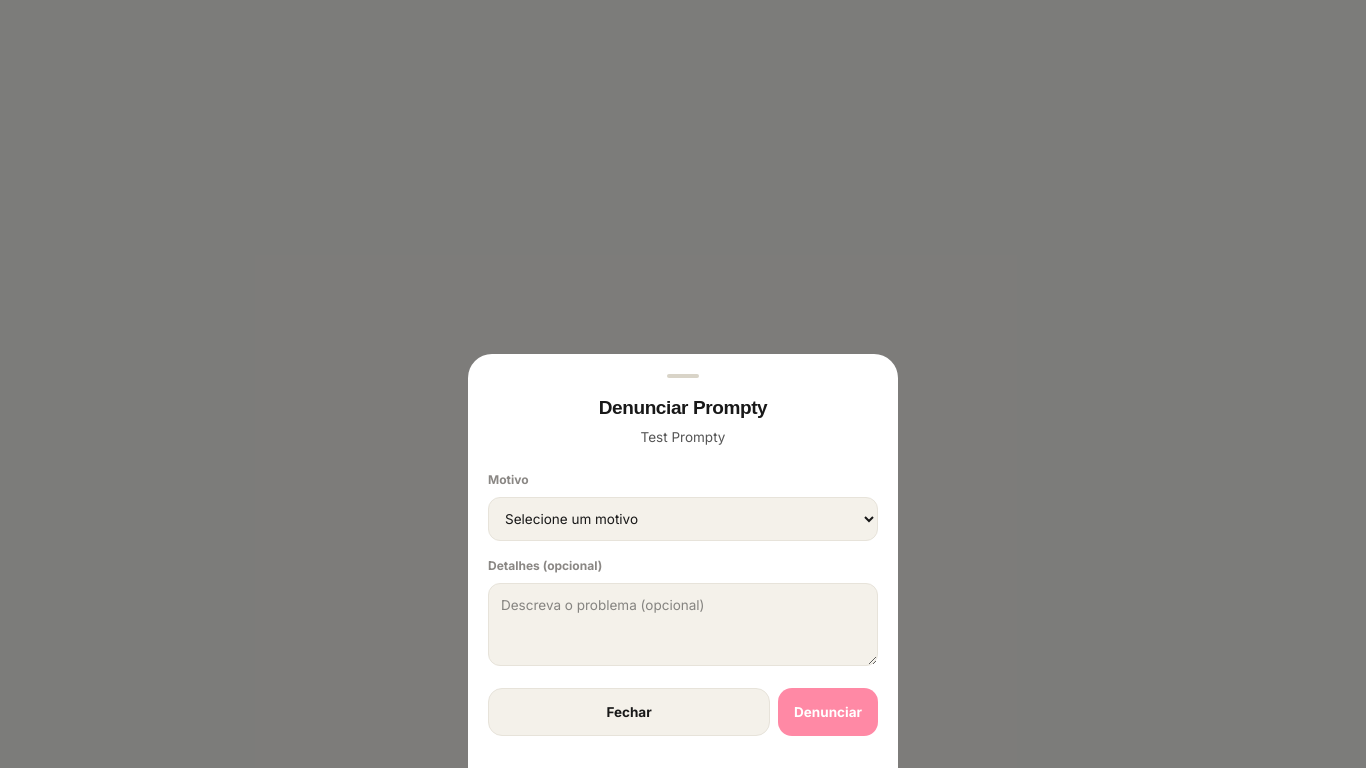
ReportSheet › submit error shows alert and keeps sheet open
Select "Spam" in the dropdown named "motivo da denúncia" at (683, 519), box [488,497,878,541]
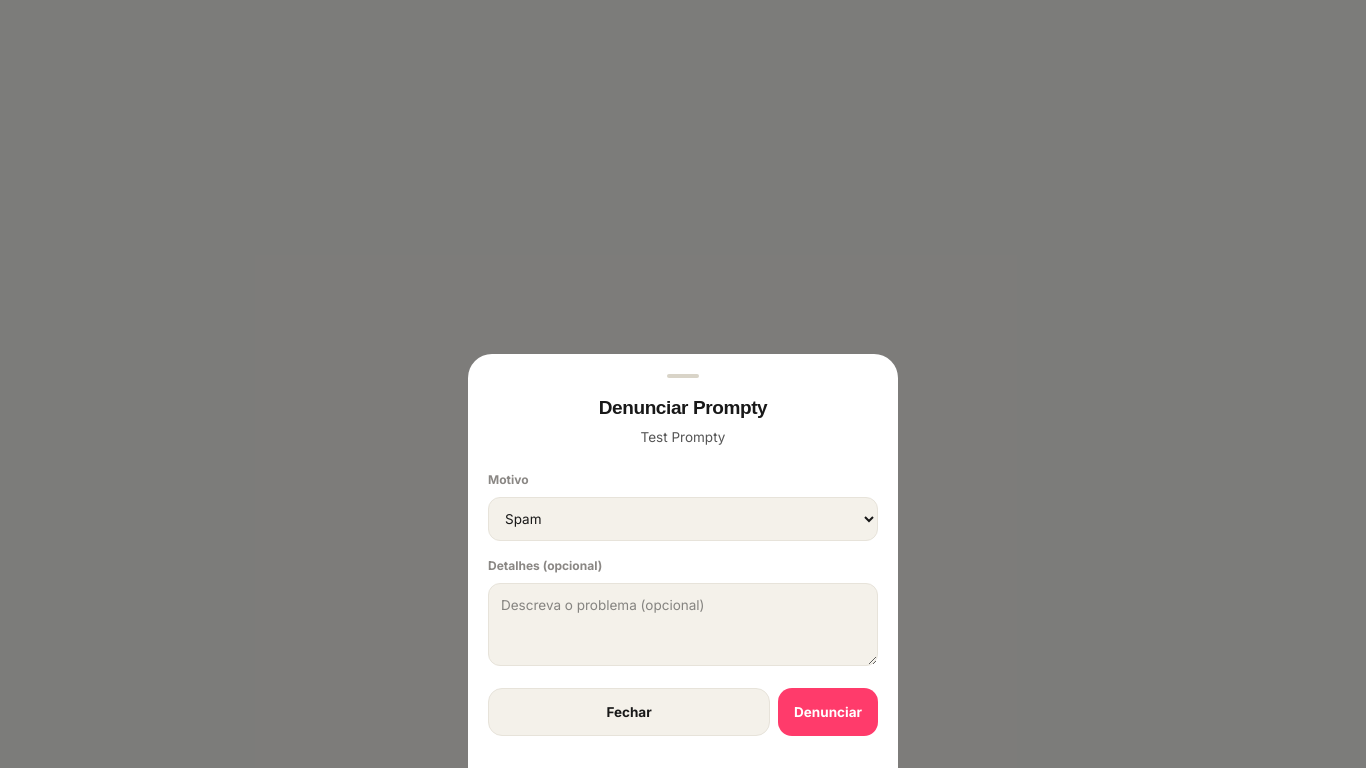
Click the button "Denunciar" at (828, 712), box [778,688,878,736]
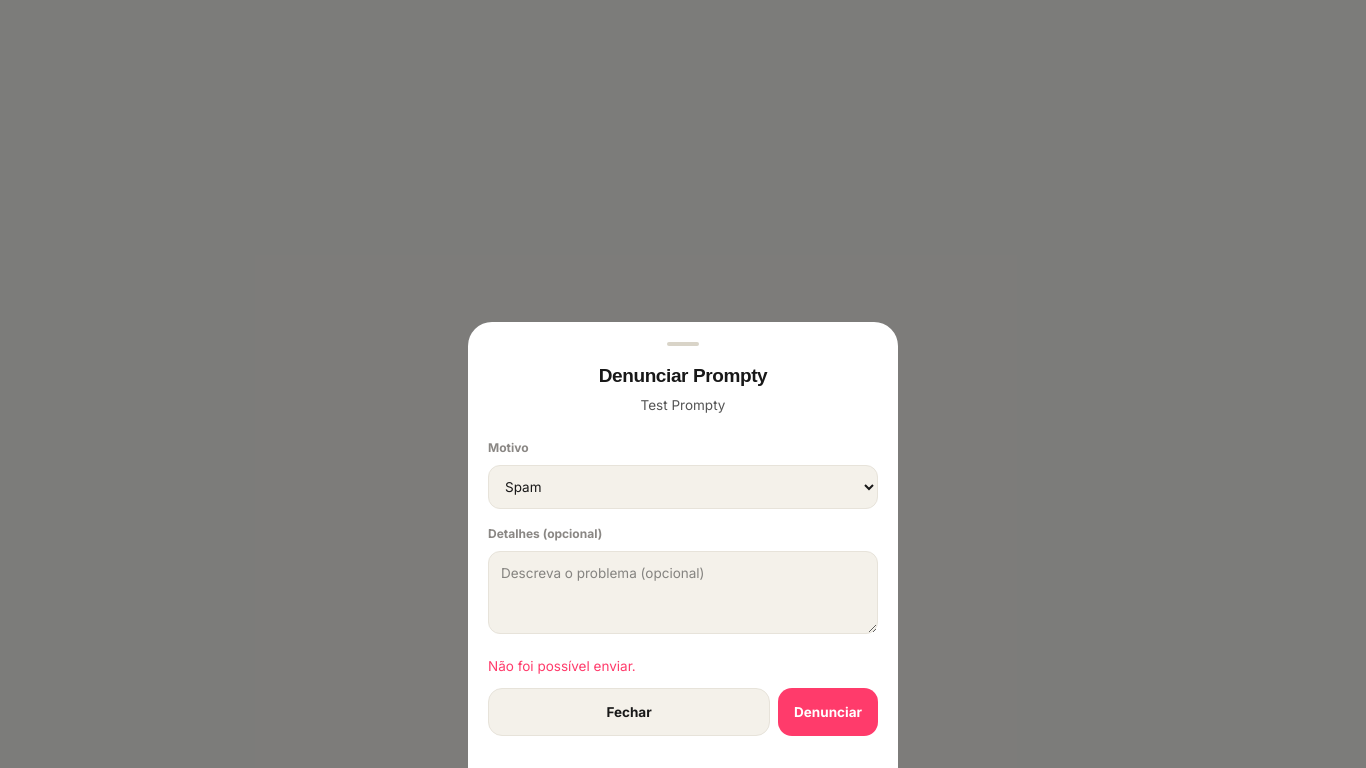
Now the message reads "Não foi possível enviar.", box [488,658,636,674]
